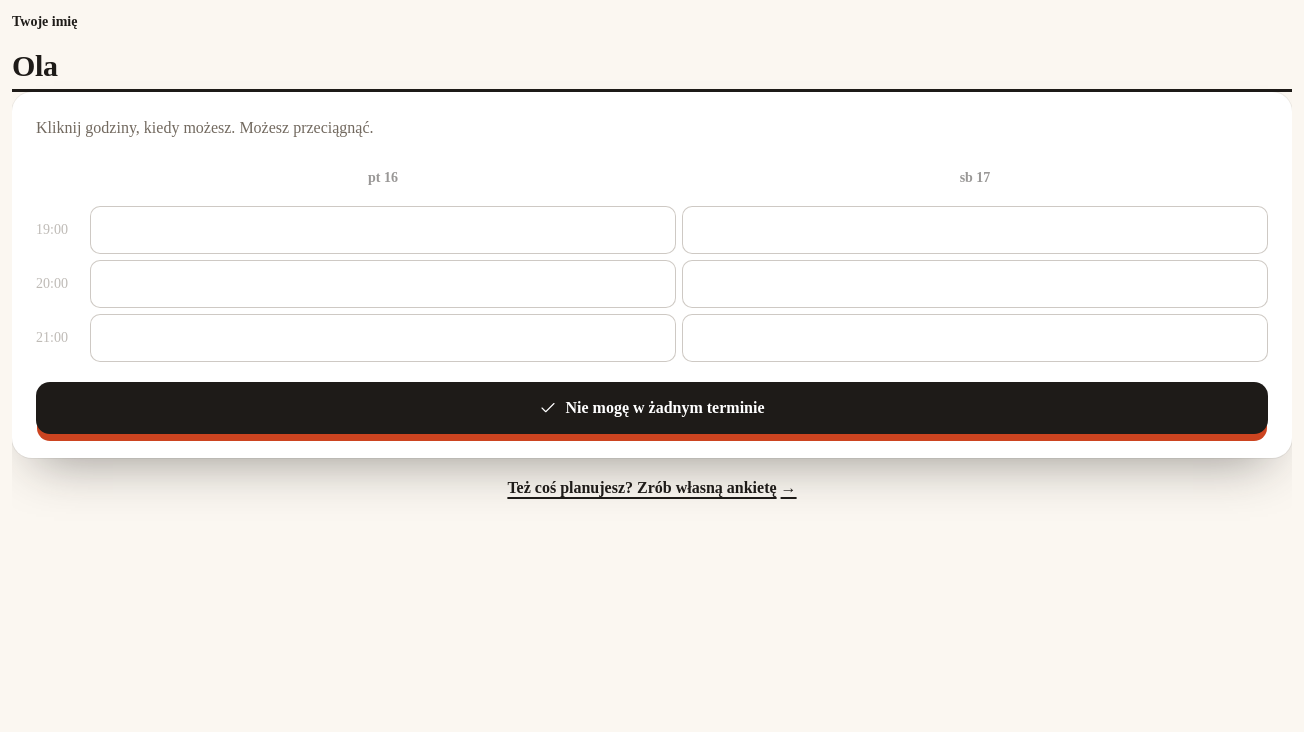
it: the Moje lead and body › keeps nothing on this device when the answer is not saved
The width and height of the screenshot is (1304, 732).
Click the button named "pt 16, 19:00" at [383, 230], box [90,206,676,254]
Wait 500 ms
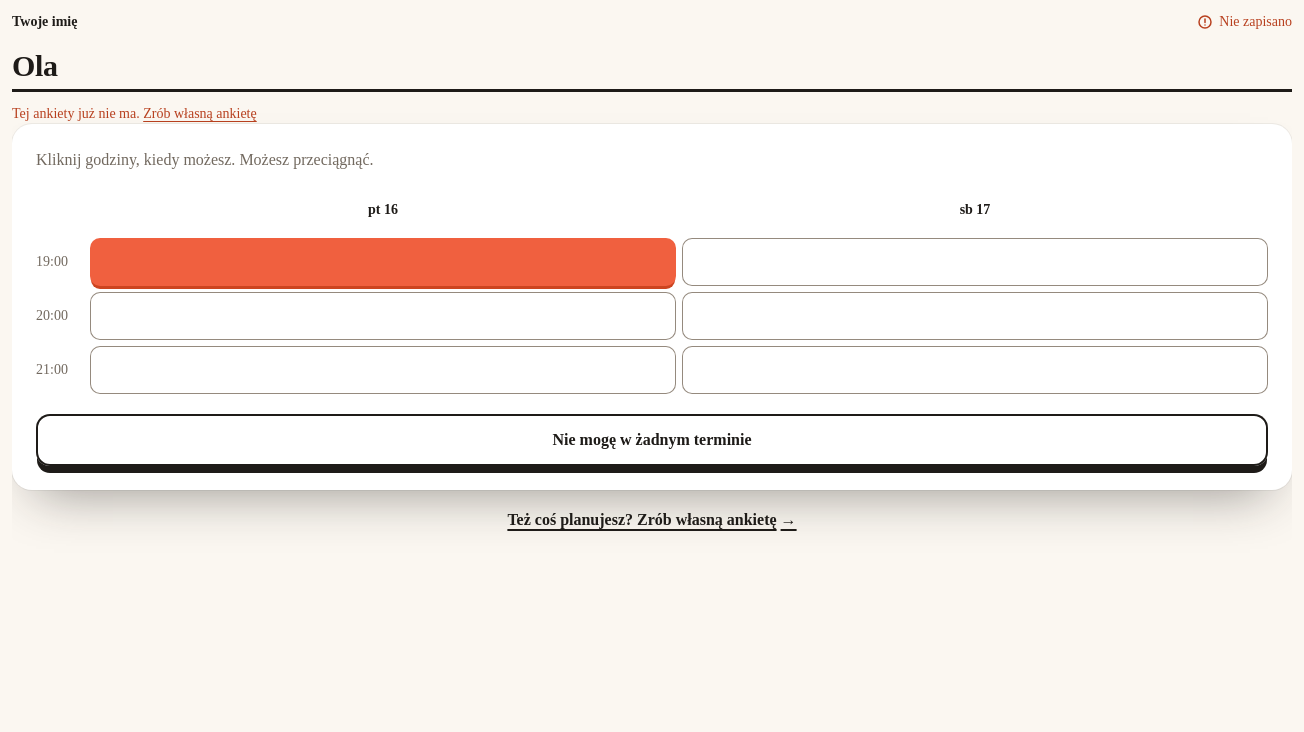
expect the link "Zrób własną ankietę" is shown: met, box [143,106,257,121]
